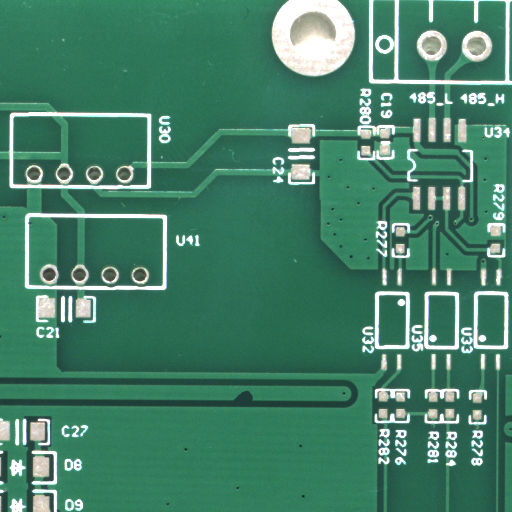Mouse_bite: (244, 397, 280, 415)
